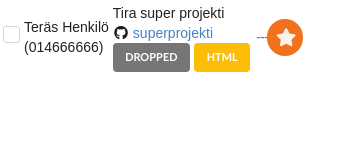
Test: <StudentTableRow /> › StudentTableRow Component › displays review button for final review
Hover over the 1st button at (285,37), box 267,19 -> 303,56
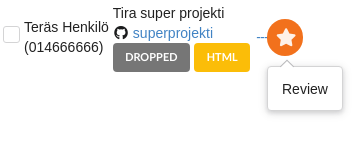
Now the text "Review" is shown, box 282,79 -> 328,99
